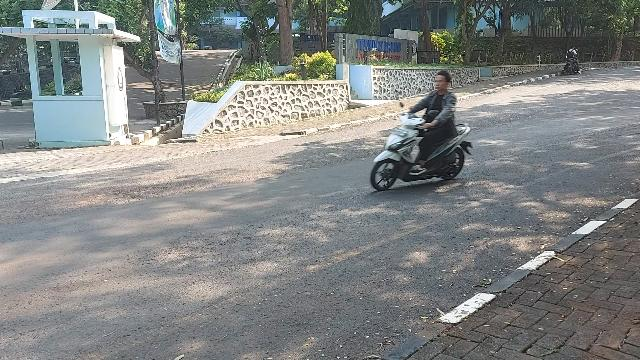motor: (372, 103, 474, 192)
non-helm: (435, 71, 452, 91)
